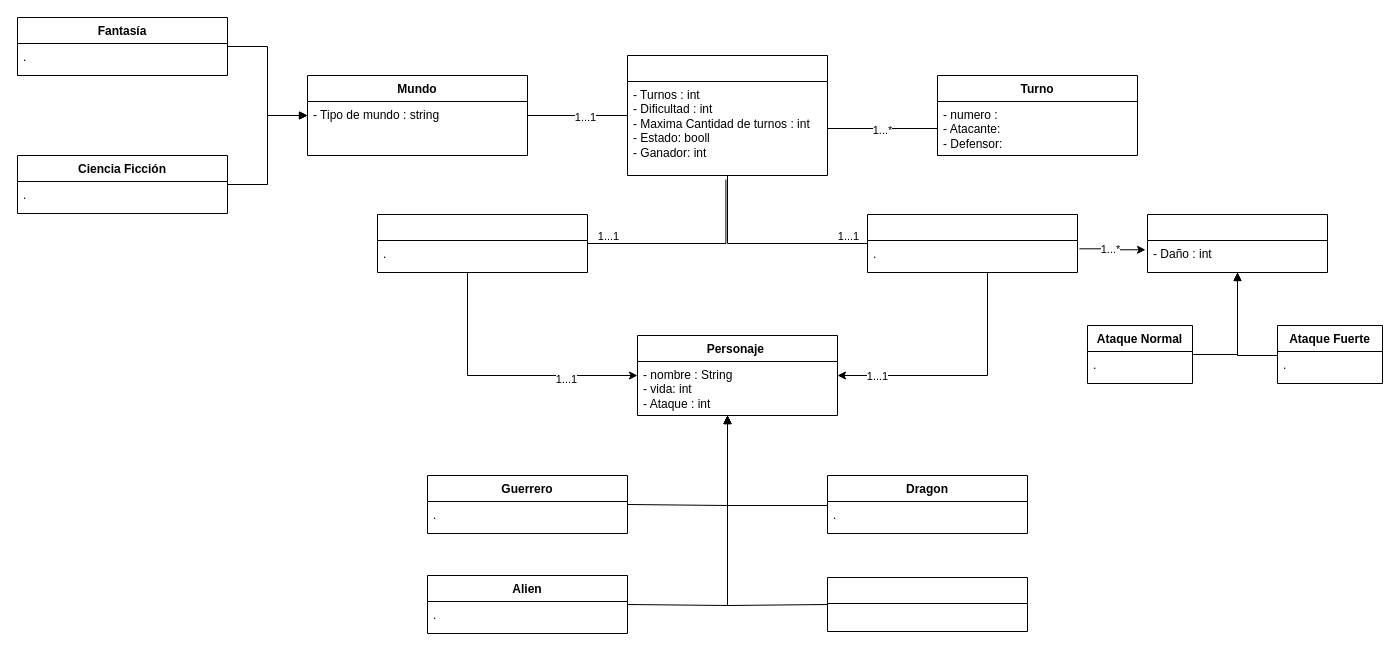
The diagram is 1400 pixels wide and 654 high, and some of its shapes have lost their labels. Each missing label, with the box of its shape:
Enemigo: (376, 214, 588, 272)
Estategia de Ataque: (1146, 214, 1328, 272)
Jugador: (866, 214, 1078, 272)
Partida: (626, 54, 828, 176)
Soldado: (826, 576, 1028, 632)
